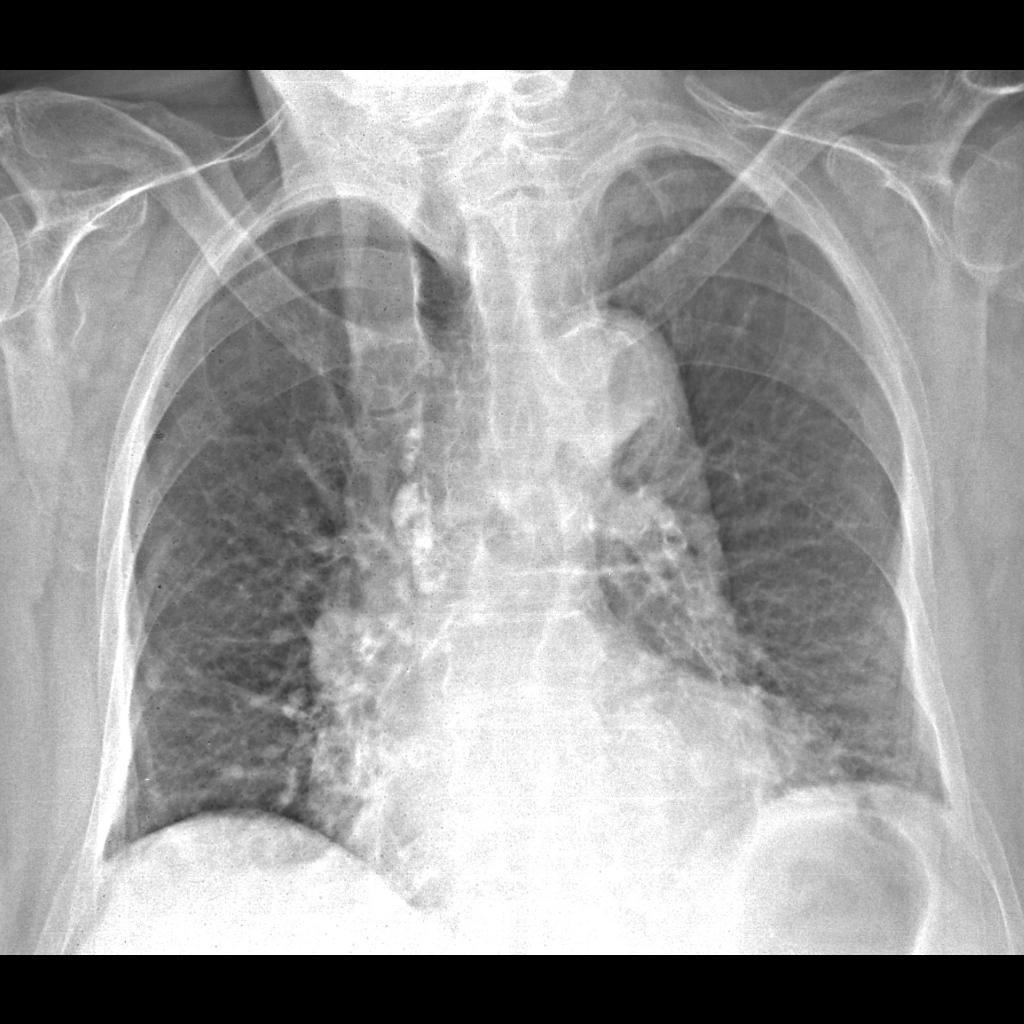Nodule: (679, 728, 748, 805)
